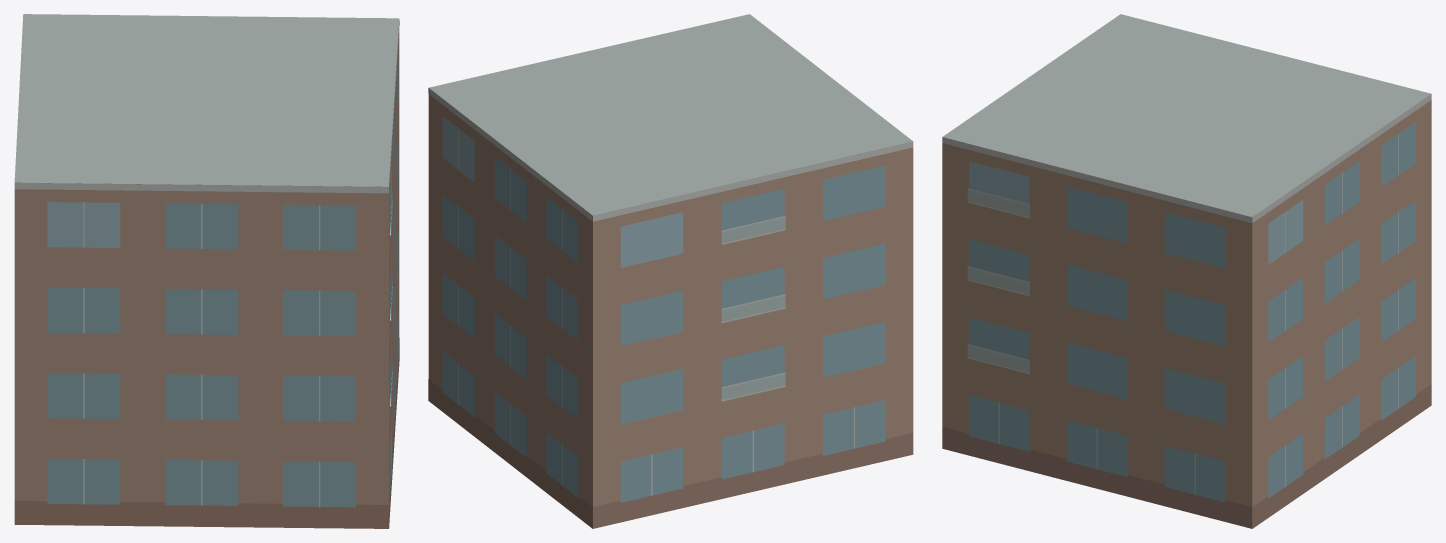
The model's file is survey-upis-32912153.glb.
The picture shows the model from 3 angles, left to right: view 1: azimuth 30°, elevation 25°; view 2: azimuth 150°, elevation 25°; view 3: azimuth 270°, elevation 25°; orthographic projection. The views are drawn at different scales.
Parts seen in each view (by area): view 1: survey-upis-32912153.tmp; view 2: survey-upis-32912153.tmp; view 3: survey-upis-32912153.tmp.
Part boxes in pixels (left/top/right/bottom): survey-upis-32912153.tmp: left=14, top=14, right=399, bottom=528; survey-upis-32912153.tmp: left=428, top=14, right=913, bottom=528; survey-upis-32912153.tmp: left=942, top=14, right=1431, bottom=528.
Size of the model in its own units: 17.77 by 12.7 by 18.08.
